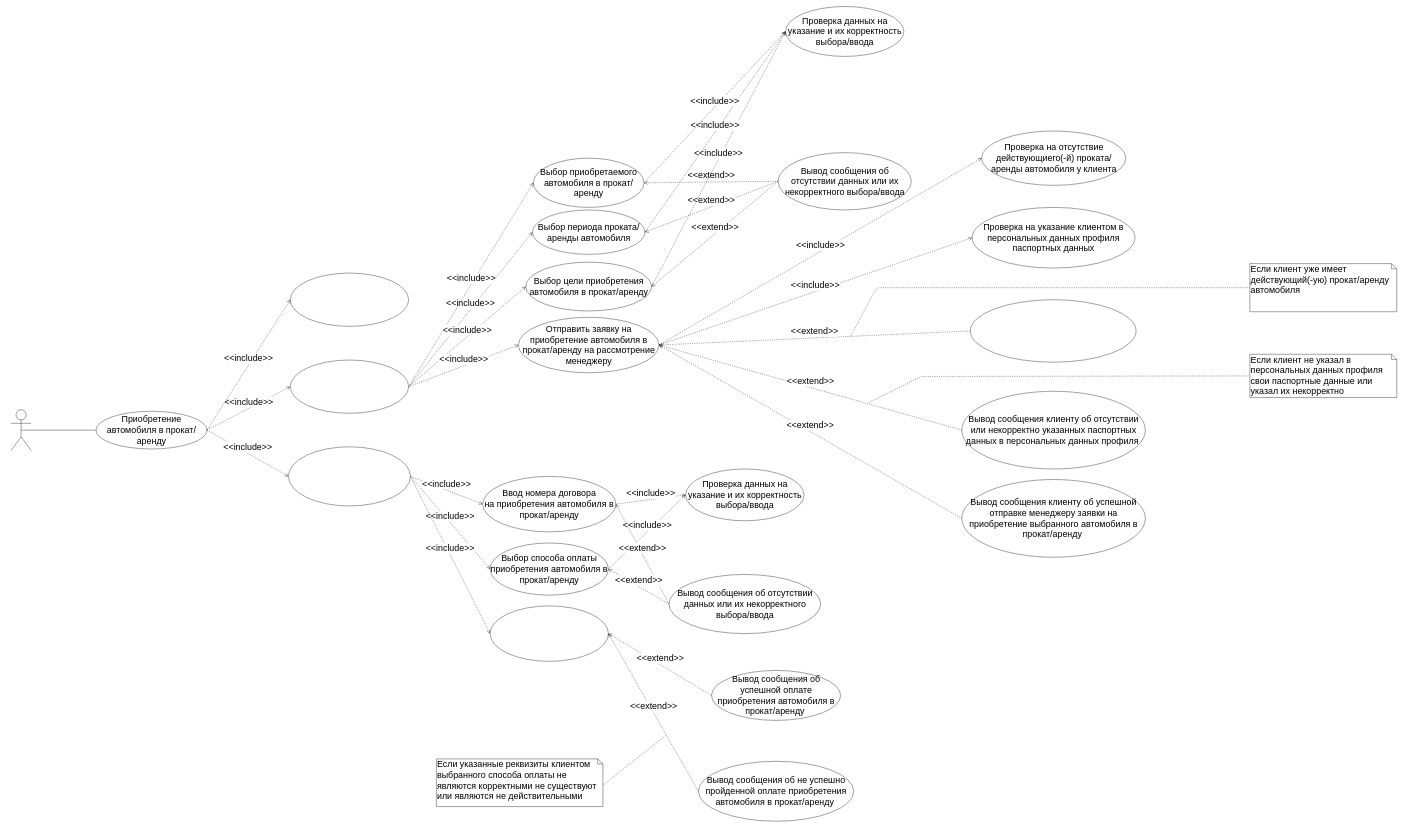
Image size: 1403x828. Some labels were removed from this diagram. The centre of each missing label's shape, as x and y in pixels:
"Вывод сообщения клиенту об уже действующем(-й) прокате/аренде автомобиля" belongs at (x=1053, y=330).
"Клиент" belongs at (x=21, y=429).
"Оплатить приобретение автомобиля в прокат/аренду" belongs at (x=549, y=633).
"Оформить платежа на приобретение автомобиля в прокат/аренду по номеру договора" belongs at (x=349, y=476).
"Просмотр автомобилей автопарка компании проката/аренды" belongs at (x=349, y=299).
"Создать заявку на приобретение автомобиля в прокат/аренду" belongs at (x=349, y=386).
